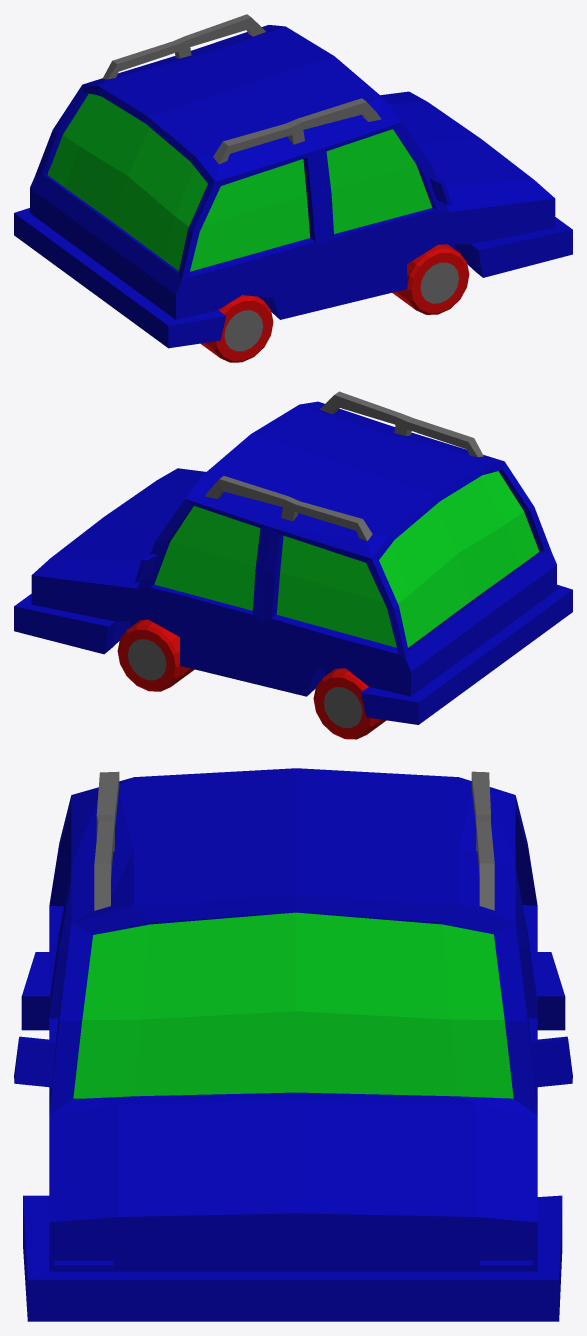
The model's file is Default_Car.FBX.
The picture shows the model from 3 angles, top to bottom: view 1: azimuth 30°, elevation 25°; view 2: azimuth 150°, elevation 25°; view 3: azimuth 270°, elevation 25°; orthographic projection. The views are drawn at different scales.
Parts seen in each view (by area): view 1: Default_car, Dummy046, Dummy045; view 2: Default_car, Dummy046, Dummy045; view 3: Default_car.
Boxes of the visible parts, box(x1,y1,x2,y2) form: Default_car: box(14, 14, 572, 348); Dummy046: box(392, 244, 469, 314); Dummy045: box(201, 295, 273, 362); Default_car: box(14, 391, 572, 724); Dummy046: box(117, 619, 194, 691); Dummy045: box(313, 668, 386, 739); Default_car: box(14, 768, 572, 1321).
Bounding box in the file's own units: 115 × 60.62 × 83.12.
